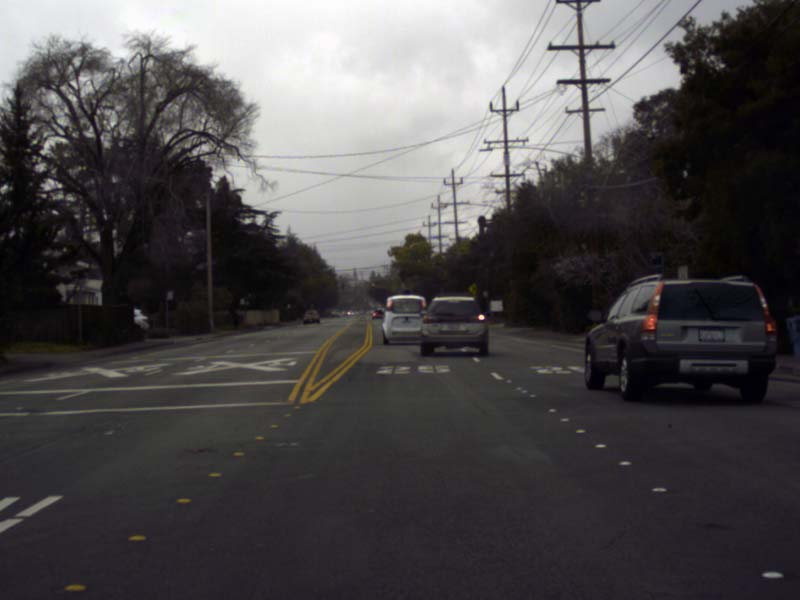Red: (371, 280, 375, 288)
